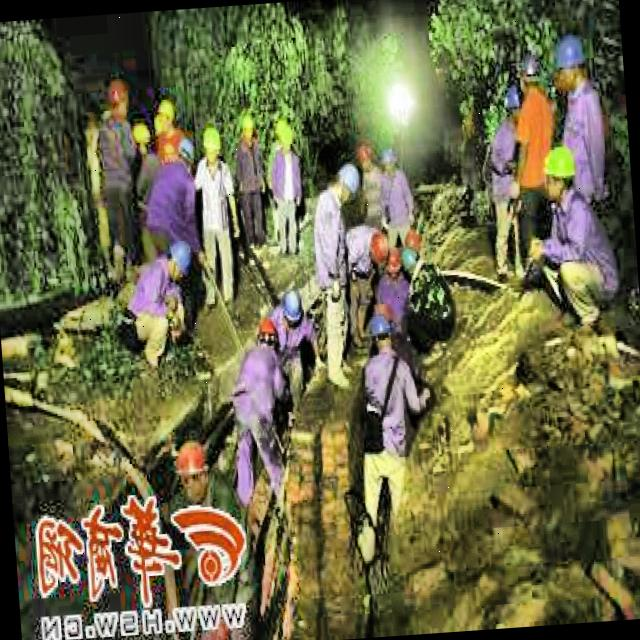helmet: (547, 32, 591, 96), (173, 422, 210, 497), (541, 143, 578, 203), (162, 232, 196, 280), (366, 305, 398, 352), (333, 158, 363, 205), (197, 119, 224, 169), (170, 131, 198, 178), (276, 285, 304, 330), (516, 49, 543, 94), (364, 228, 392, 268), (500, 82, 524, 124), (382, 242, 406, 284), (399, 240, 422, 280), (254, 313, 280, 348), (154, 92, 173, 136), (237, 112, 260, 147), (352, 138, 373, 170)
